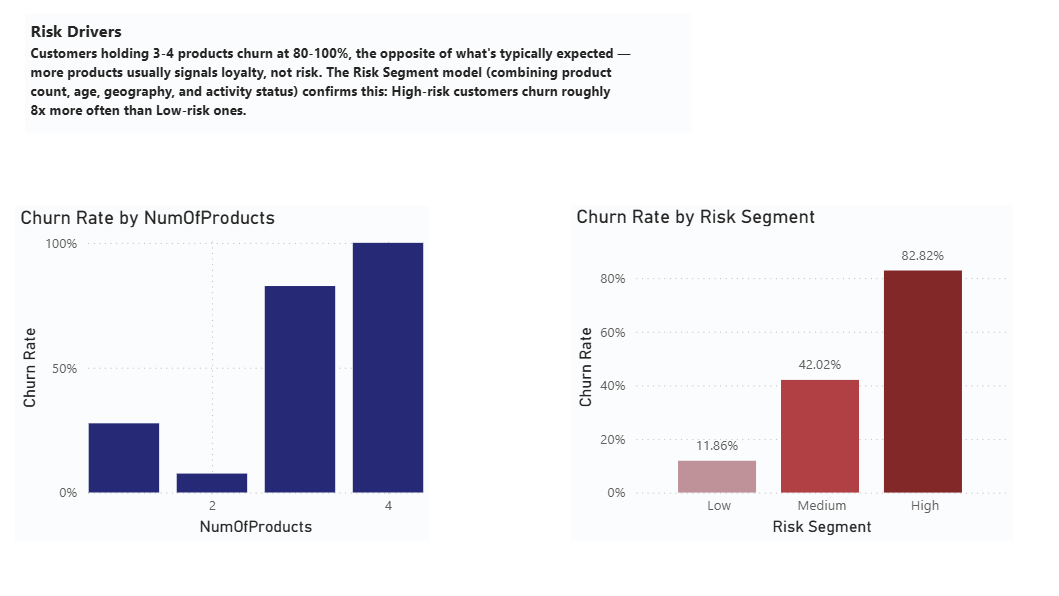

What the dashboard file says about the page in this screenshot:
{"tool":"powerbi","page":{"name":"Risk Drivers","canvas":[1280,720],"ordinal":2},"visuals":[{"type":"clusteredColumnChart","fields":{"Category":["Churn_Modelling (2).NumOfProducts"],"Y":["Churn_Modelling (2).Churn Rate"]},"box":[104.2,208.8,370.6,299.6],"z":0},{"type":"clusteredColumnChart","fields":{"Y":["Churn_Modelling (2).Churn Rate"],"Category":["Churn_Modelling (2).Risk Segment"]},"box":[602.1,207.9,395.9,300.5],"z":1000},{"type":"textbox","box":[112.8,36.7,597.3,105.7],"z":2000}]}

Visuals, with their boxes in screenshot pixels (x1, y1, x2, y2), scaled from the page's 1280x720 canvas onto the 1059x596 screenshot:
clusteredColumnChart - Churn_Modelling (2).NumOfProducts x Churn_Modelling (2).Churn Rate: l=86, t=173, r=393, b=421
clusteredColumnChart - Churn_Modelling (2).Churn Rate x Churn_Modelling (2).Risk Segment: l=498, t=172, r=826, b=421
textbox: l=93, t=30, r=587, b=118
